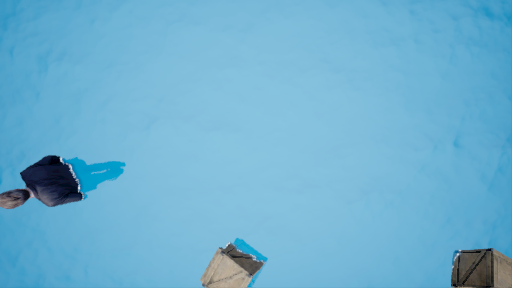person: (1, 155, 125, 213)
